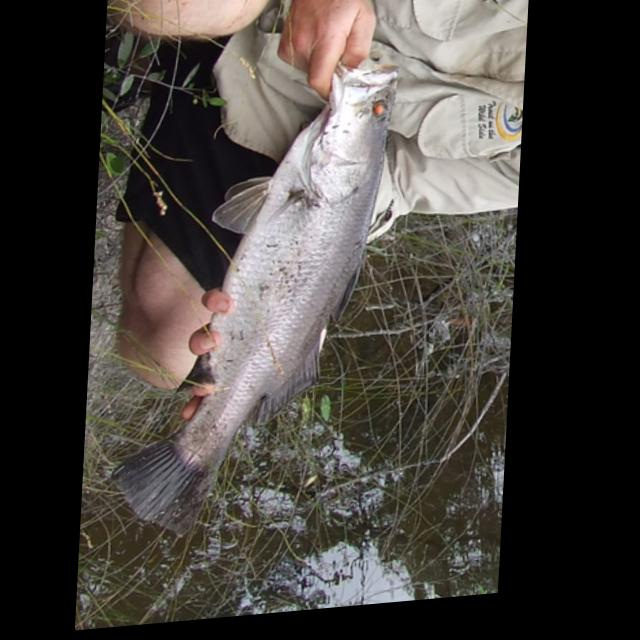Seabass: (106, 48, 401, 542)
